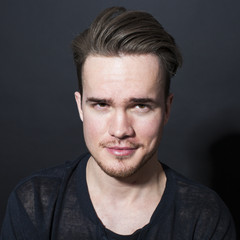young: (63, 13, 193, 178)
